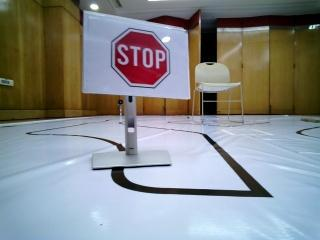stop: (100, 23, 194, 93)
